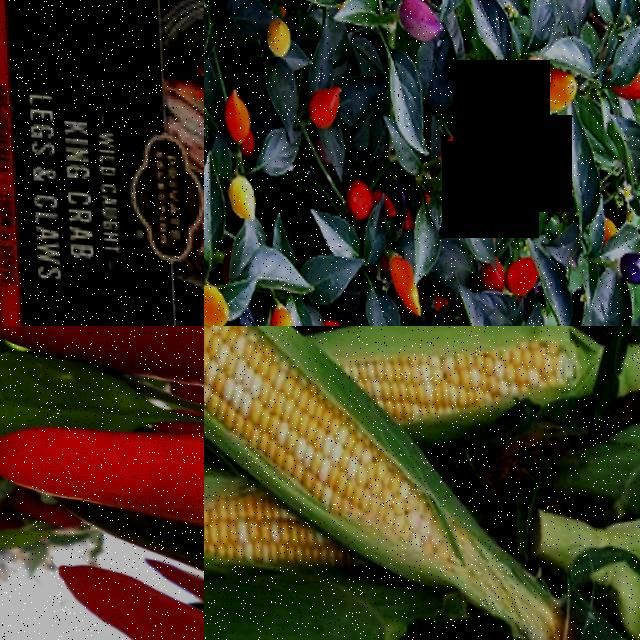chilli: (0, 397, 204, 524), (43, 547, 204, 640), (0, 326, 204, 389), (433, 111, 488, 170), (301, 71, 344, 139), (382, 241, 424, 310), (451, 166, 502, 217)
corn: (268, 357, 442, 552), (341, 326, 574, 422), (204, 466, 351, 577), (204, 326, 316, 455)
